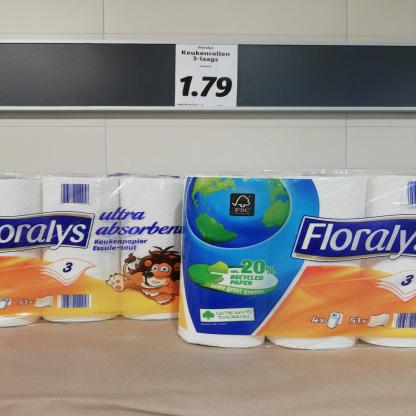prtg: (176, 45, 239, 108)
